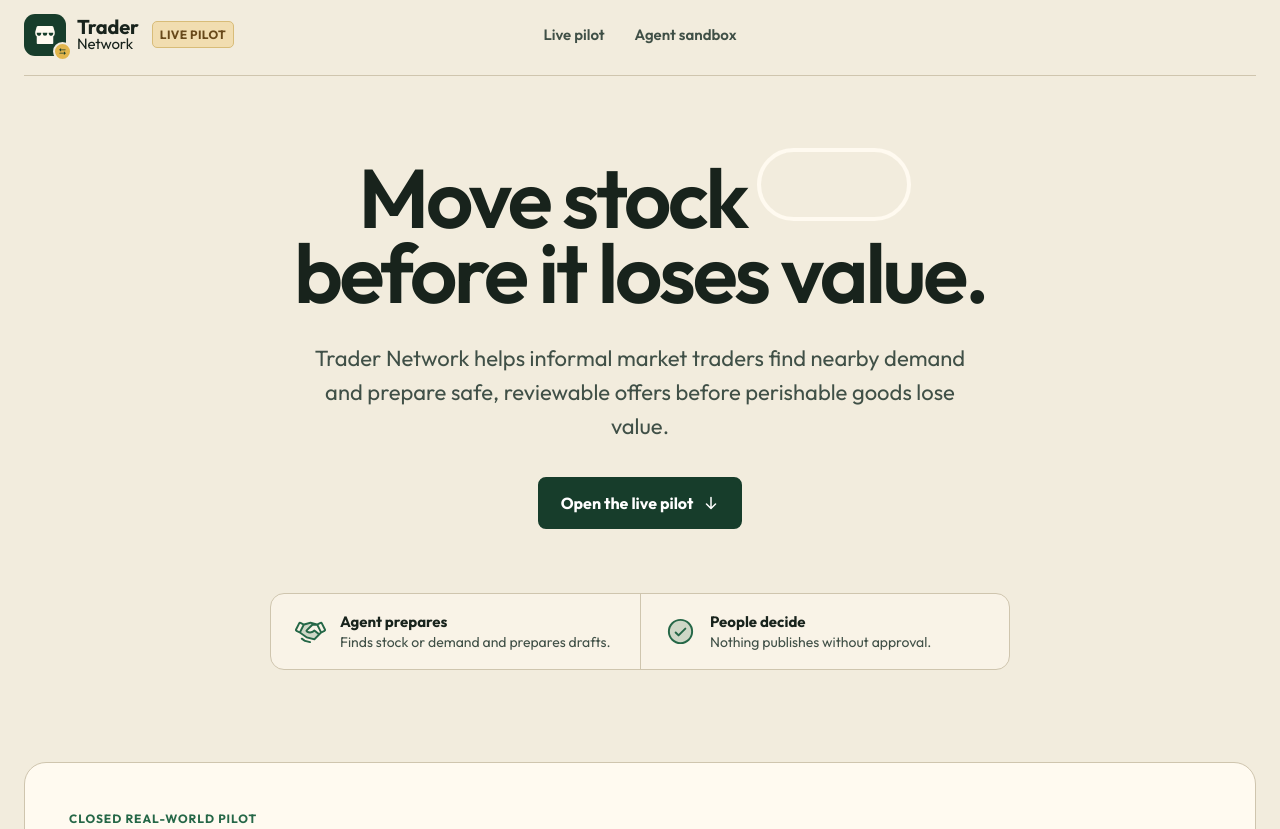
Test: Trader Network human-in-the-loop flow › prepares an offer but waits for the trader before publishing
Step 1. Click the link "Agent sandbox" → (686, 34), box [635,25,737,44]
(page scrolled)
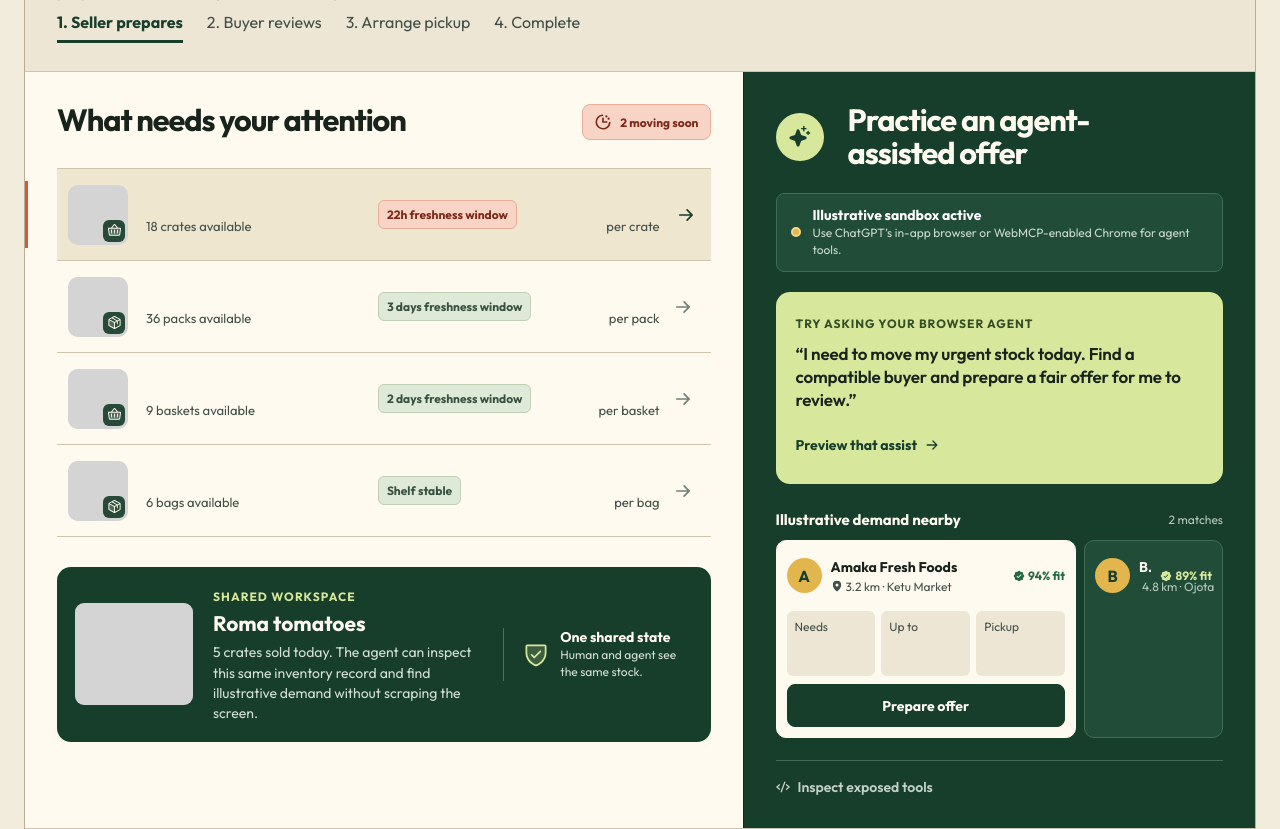
Step 2. Click the button "Preview that assist" → (867, 445), box [796,426,939,464]
(page scrolled)
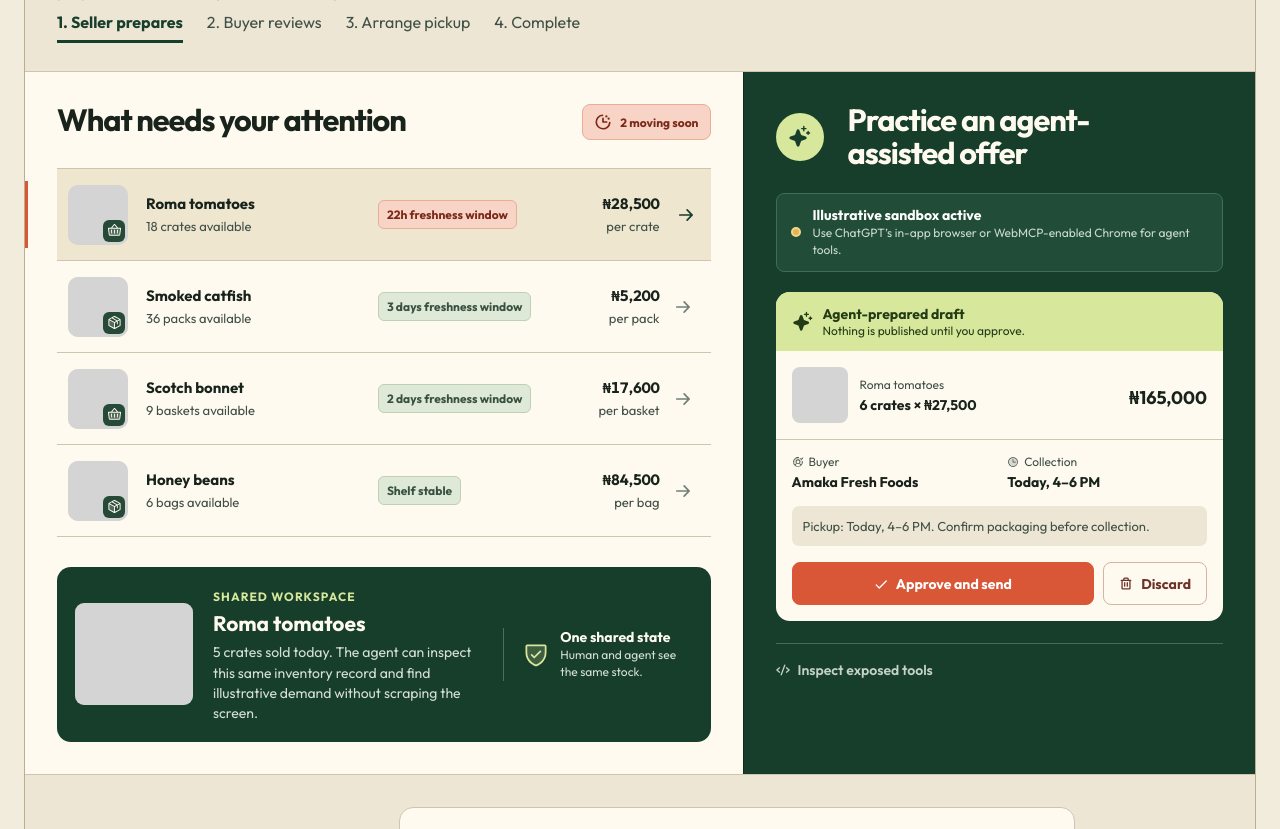
Check: the text "Agent-prepared draft" is shown, box [822,305,965,323]
Check: the text "Agent-prepared draft Nothing is published until you approve." is shown, box [822,305,1025,338]
Check: the button "Approve and send" is enabled, box [792,562,1094,605]
